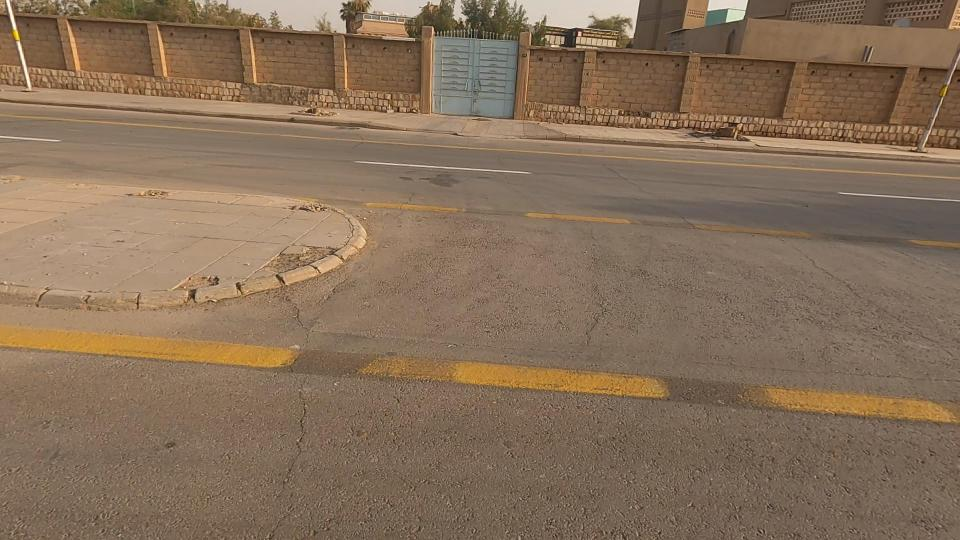GARBAGE: (665, 100, 784, 162)
